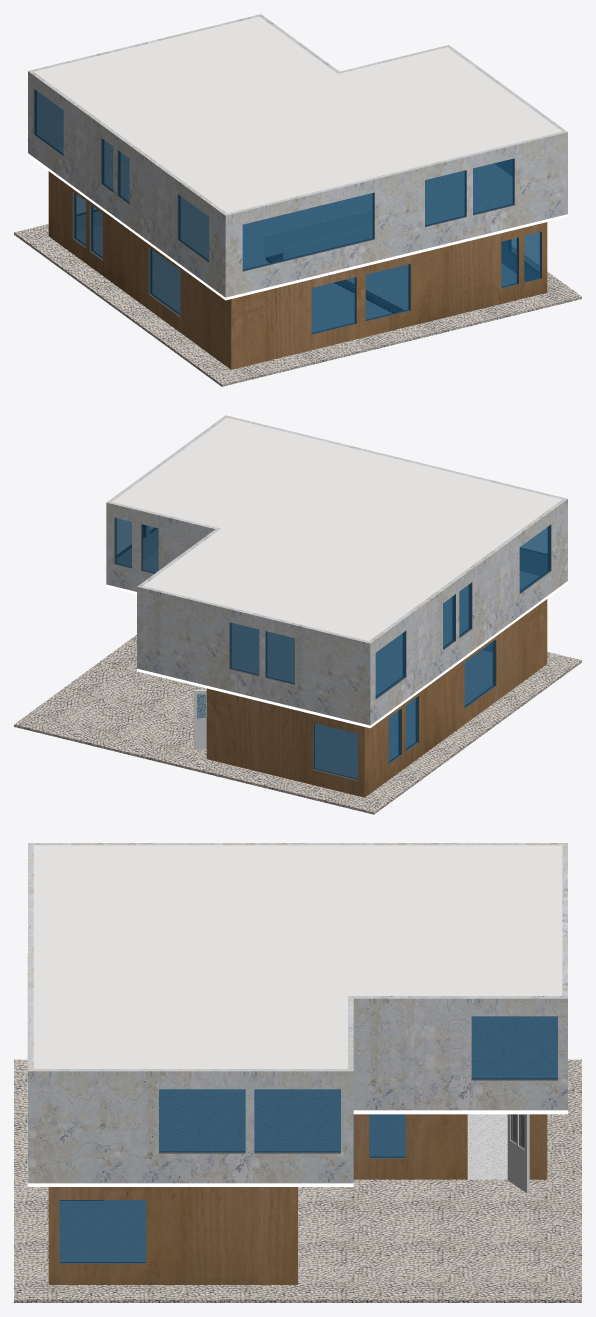
File: sdfsd.glb
3 renders of one model, top to bottom at view 1: azimuth 30°, elevation 25°; view 2: azimuth 150°, elevation 25°; view 3: azimuth 270°, elevation 25°, orthographic. The views are drawn at different scales.
Parts seen in each view (by area): view 1: upper.001, upper.000, lower.000, glass.001, lower ground.000, upper floor patt.001, inner ground.000, upper ceiling.001, outerlight.001, upsills.001, lowsills.001, upinwall.001 (+2 smaller); view 2: upper.001, upper.000, lower ground.000, lower.000, glass.001, upper floor patt.001, inner ground.000, upsills.001, outerlight.001, upinwall.001, lowsills.001, lowsills.002; view 3: upper.001, upper.000, lower ground.000, lower.000, glass.001, upper floor patt.001, inner ground.000, outerlight.001, lowsills.002, upsills.001.
Part boxes in pixels (left/top/right/bottom): upper.001: left=34, top=16, right=561, bottom=213; upper.000: left=28, top=14, right=567, bottom=297; lower.000: left=48, top=171, right=547, bottom=369; glass.001: left=34, top=89, right=540, bottom=333; lower ground.000: left=14, top=224, right=581, bottom=386; upper floor patt.001: left=56, top=141, right=512, bottom=268; inner ground.000: left=76, top=225, right=524, bottom=332; upper ceiling.001: left=266, top=210, right=372, bottom=259; outerlight.001: left=27, top=153, right=568, bottom=300; upsills.001: left=33, top=88, right=514, bottom=271; lowsills.001: left=72, top=192, right=541, bottom=334; upinwall.001: left=37, top=91, right=512, bottom=175; upper.001: left=112, top=417, right=561, bottom=640; upper.000: left=106, top=415, right=567, bottom=725; lower ground.000: left=14, top=635, right=581, bottom=814; lower.000: left=206, top=599, right=547, bottom=797; glass.001: left=115, top=518, right=550, bottom=779; upper floor patt.001: left=143, top=550, right=538, bottom=695; inner ground.000: left=315, top=650, right=492, bottom=778; upsills.001: left=114, top=517, right=551, bottom=699; outerlight.001: left=106, top=581, right=568, bottom=728; upinwall.001: left=117, top=526, right=547, bottom=575; lowsills.001: left=313, top=639, right=496, bottom=780; lowsills.002: left=193, top=690, right=206, bottom=749; upper.001: left=33, top=845, right=562, bottom=1068; upper.000: left=28, top=843, right=567, bottom=1183; lower ground.000: left=14, top=1059, right=581, bottom=1302; lower.000: left=48, top=1114, right=547, bottom=1284; glass.001: left=59, top=1016, right=557, bottom=1263; upper floor patt.001: left=27, top=955, right=557, bottom=1182; inner ground.000: left=60, top=1114, right=507, bottom=1261; outerlight.001: left=27, top=955, right=568, bottom=1186; lowsills.002: left=507, top=1114, right=529, bottom=1193; upsills.001: left=159, top=1078, right=557, bottom=1153.
Size of what is drawn, in the model's own units: 16 by 7.02 by 16.
10 materials, 5 textured.
